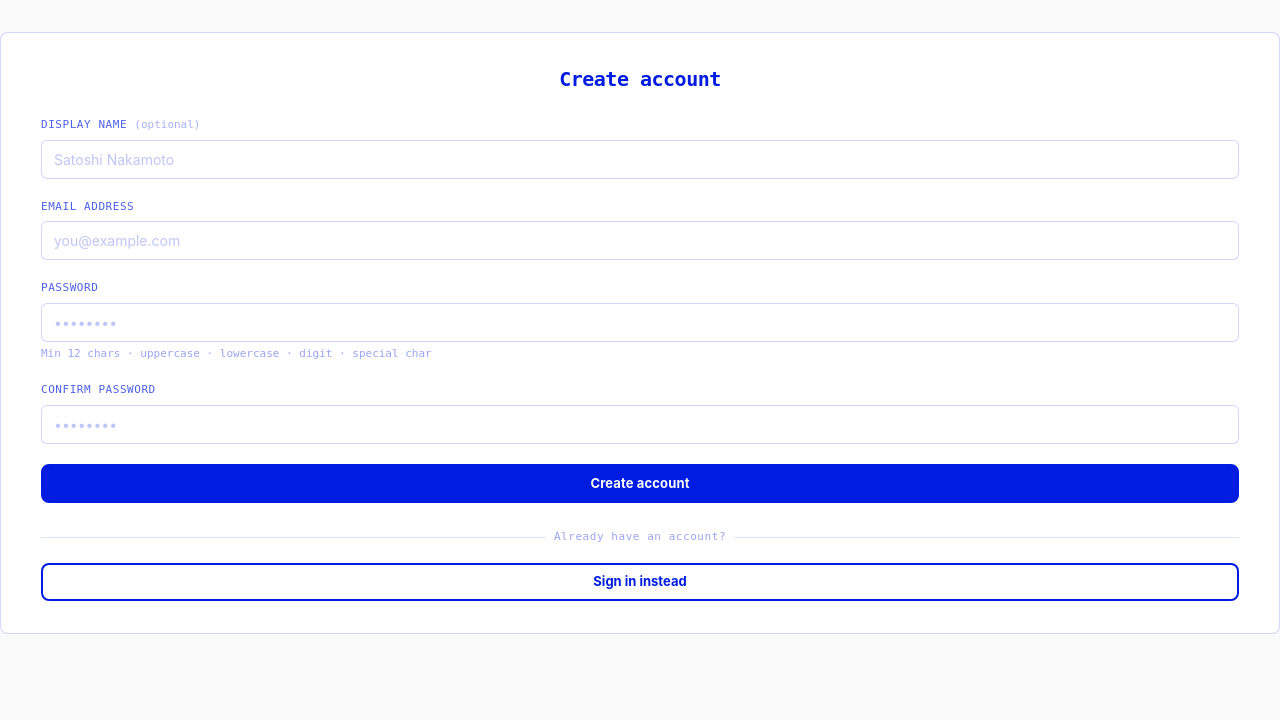
Scenario: SignupPage › Validation › shows error when email is empty
The image size is (1280, 720).
In the password field labelled "Password": (640, 322) 41,302 -> 1239,342, type "ValidPass123!"
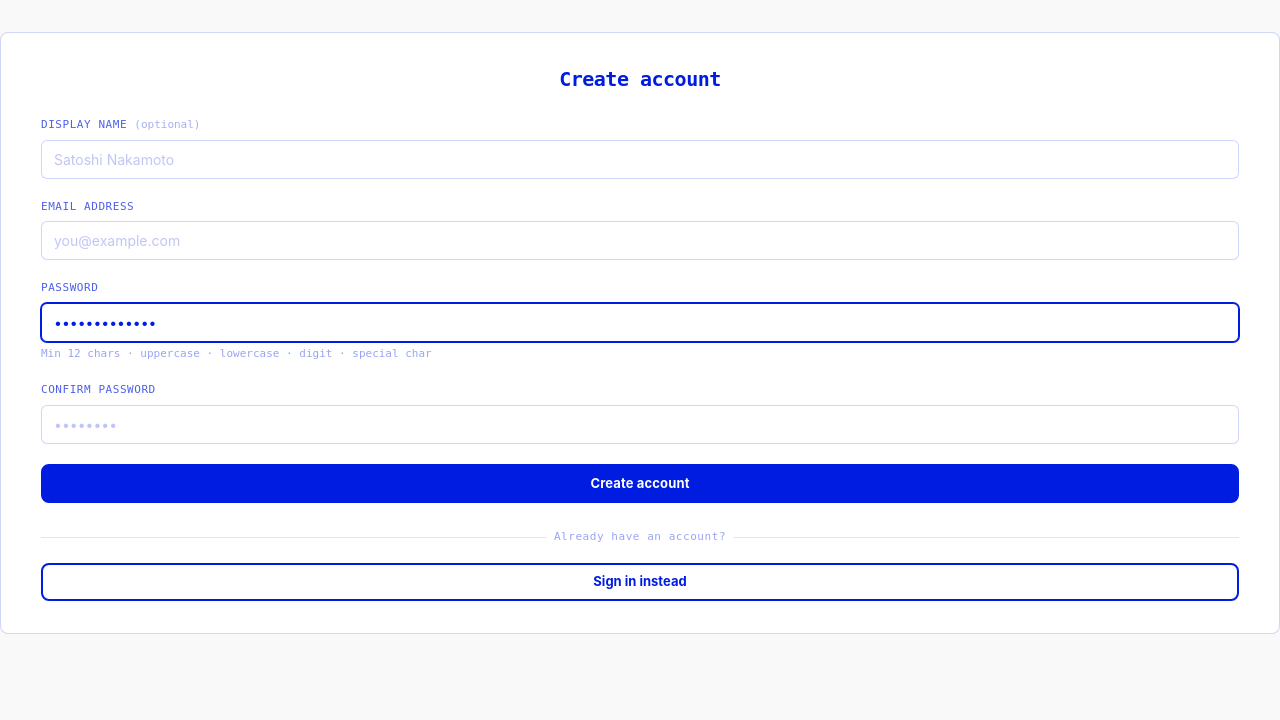
In the password field labelled "Confirm password": (640, 424) 41,404 -> 1239,444, type "ValidPass123!"
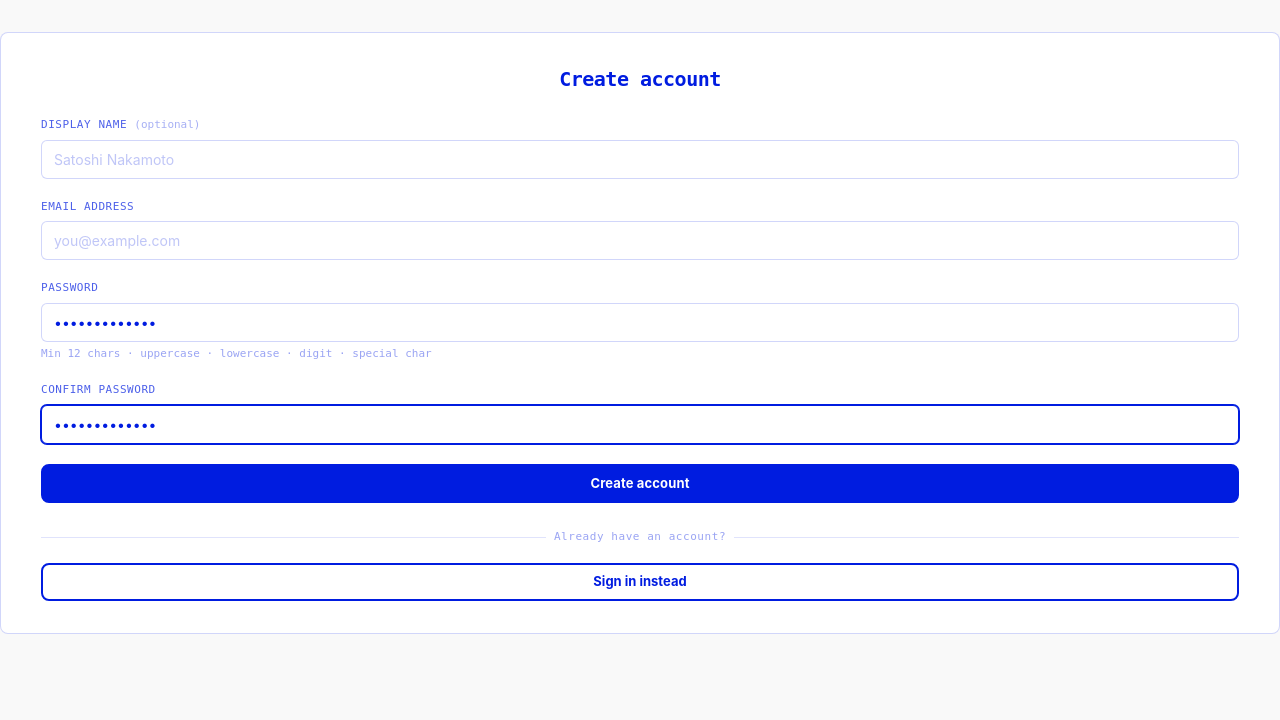
Click the button "Create account": (640, 483) 41,464 -> 1239,503
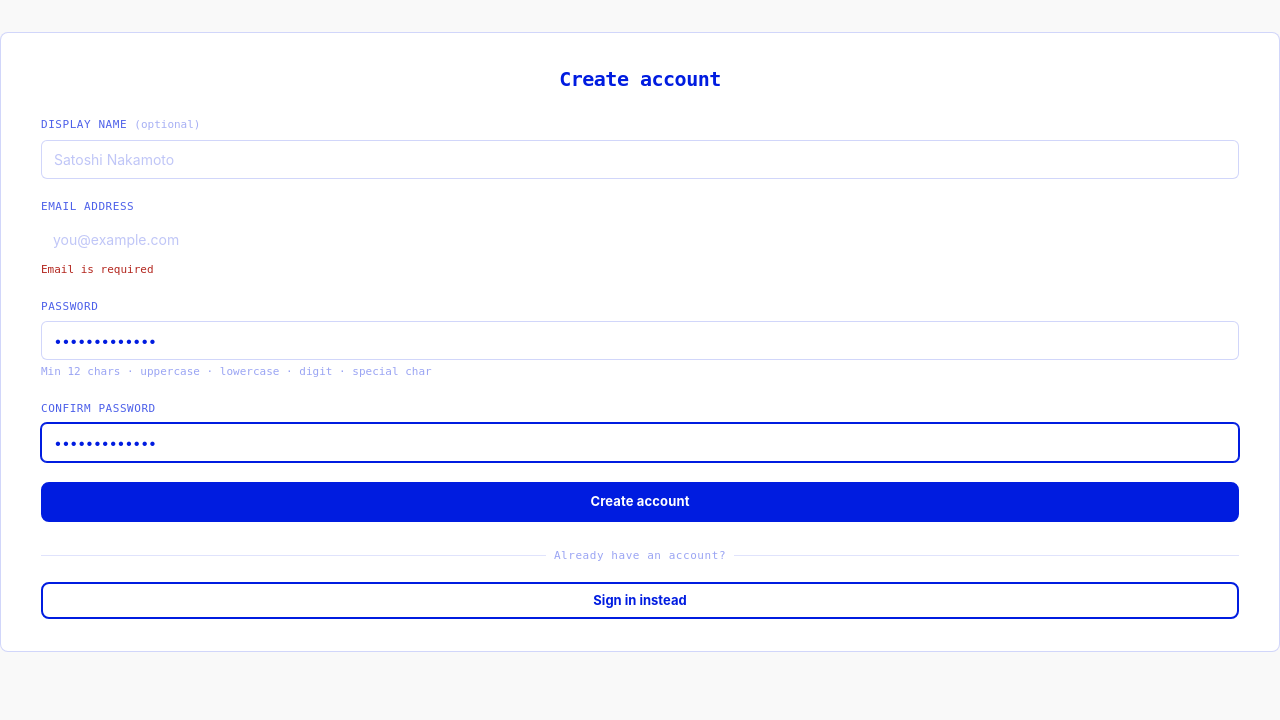
Expected: the text "Email is required" is shown, 41,263 -> 154,276
